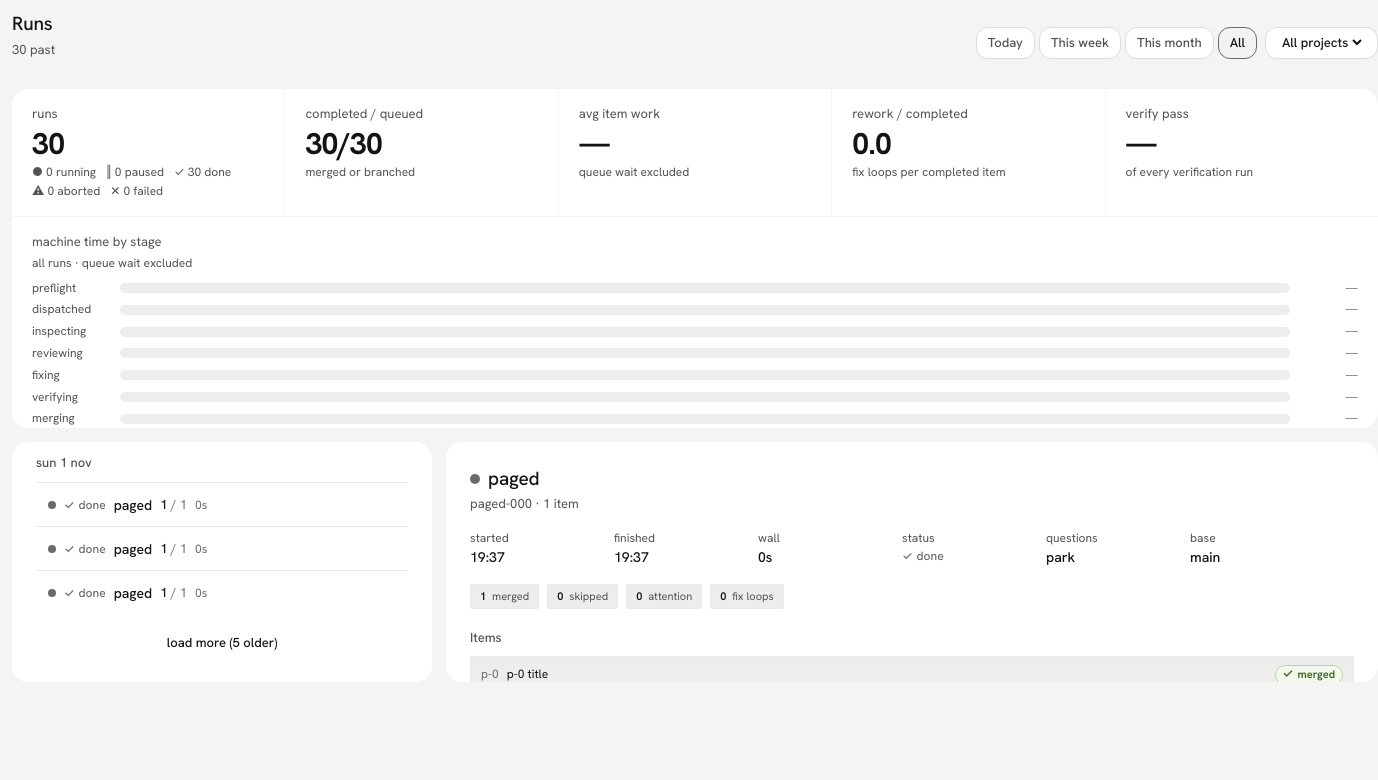
Test: RunsView history paging (task-16) › reveals the rest and removes the control when the window is exhausted
(page scrolled)
Expected: the element with test id "runs-list" is shown, [12,442,432,682]
Click the button with test id "runs-load-more" showing "load more (5 older)" at (222, 642), box [154,626,290,658]
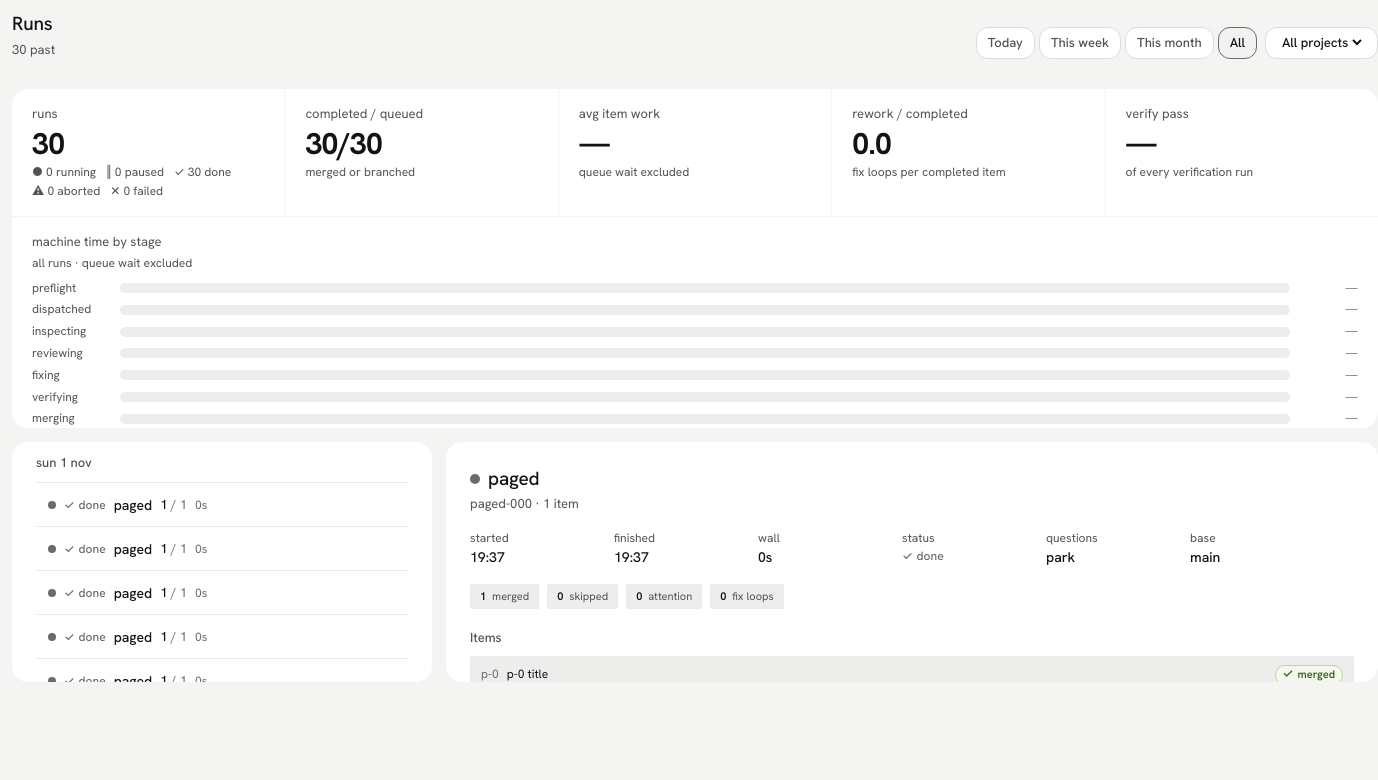
Expected: the button with test id "runs-load-more" is gone
